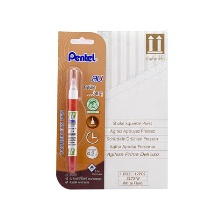book: (94, 27, 170, 191), (55, 29, 106, 191)
correction_fluid: (63, 64, 83, 177)
